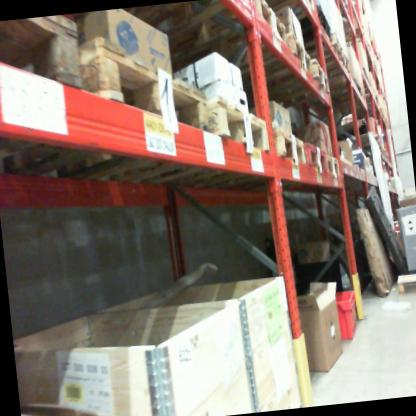pallet: (47, 18, 214, 155), (62, 83, 268, 192), (148, 0, 295, 76), (0, 15, 98, 120), (243, 61, 333, 118), (300, 63, 372, 112), (299, 33, 354, 78), (266, 112, 304, 177), (286, 24, 313, 82), (299, 127, 327, 178), (262, 0, 318, 25), (321, 150, 353, 184), (310, 16, 340, 46), (392, 264, 416, 294)
small_load_carrier: (324, 284, 362, 355)
